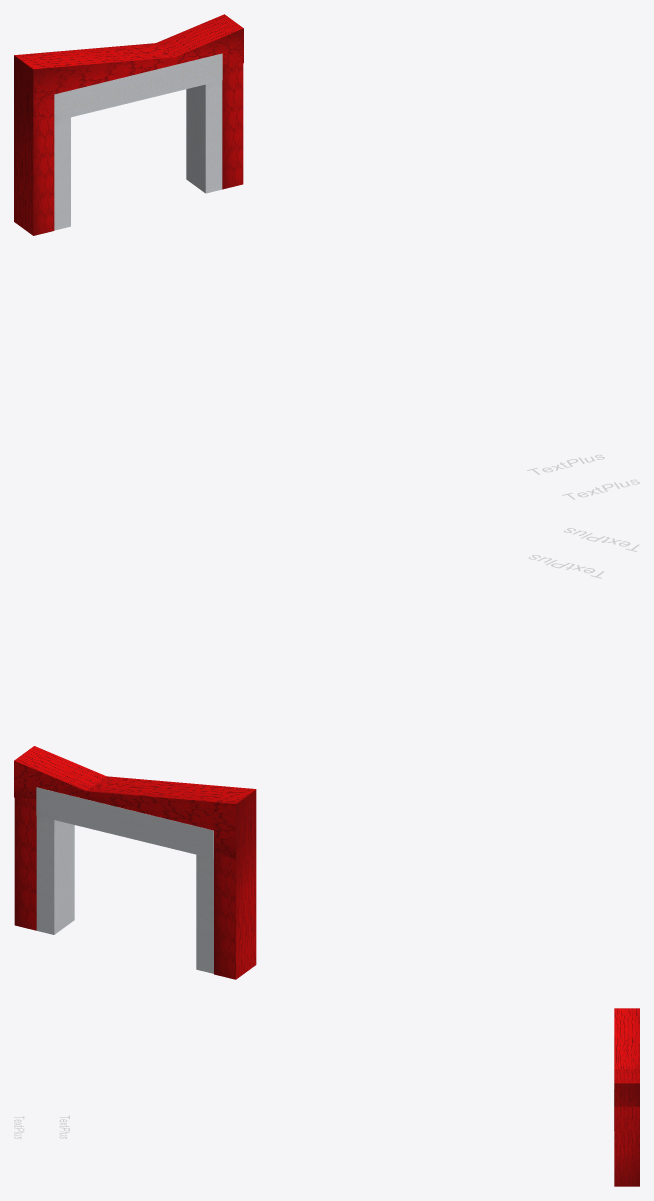
Rendered from gate.fbx.
3 renders of one model, top to bottom at view 1: azimuth 30°, elevation 25°; view 2: azimuth 150°, elevation 25°; view 3: azimuth 270°, elevation 25°, orthographic. The views are drawn at different scales.
Parts seen in each view (by area): view 1: Prism001, Box004, Box001, Box002, Box005, Prism002, Box003, TextPlus005; view 2: Prism001, Box004, Box001, Box002, Prism002, Box005, Box003; view 3: Box005, Prism001, Prism002.
Boxes of the visible parts, box(x1,y1,x2,y2) form: Prism001: box(14, 43, 197, 121); Box004: box(14, 100, 54, 235); Box001: box(54, 53, 222, 121); Box002: box(186, 80, 222, 193); Box005: box(222, 53, 243, 189); Prism002: box(156, 14, 243, 66); Box003: box(54, 117, 70, 230); TextPlus005: box(59, 60, 219, 112); Prism001: box(63, 776, 256, 858); Box004: box(214, 837, 256, 979); Box001: box(36, 787, 213, 858); Box002: box(36, 816, 74, 934); Prism002: box(14, 746, 117, 804); Box005: box(14, 789, 36, 930); Box003: box(196, 854, 213, 973); Box005: box(614, 1106, 639, 1186); Prism001: box(614, 1008, 639, 1069); Prism002: box(614, 1069, 639, 1106).
Bounding box in the file's own units: 252 × 191 × 978.
Materials: 2 (2 with a texture image).
